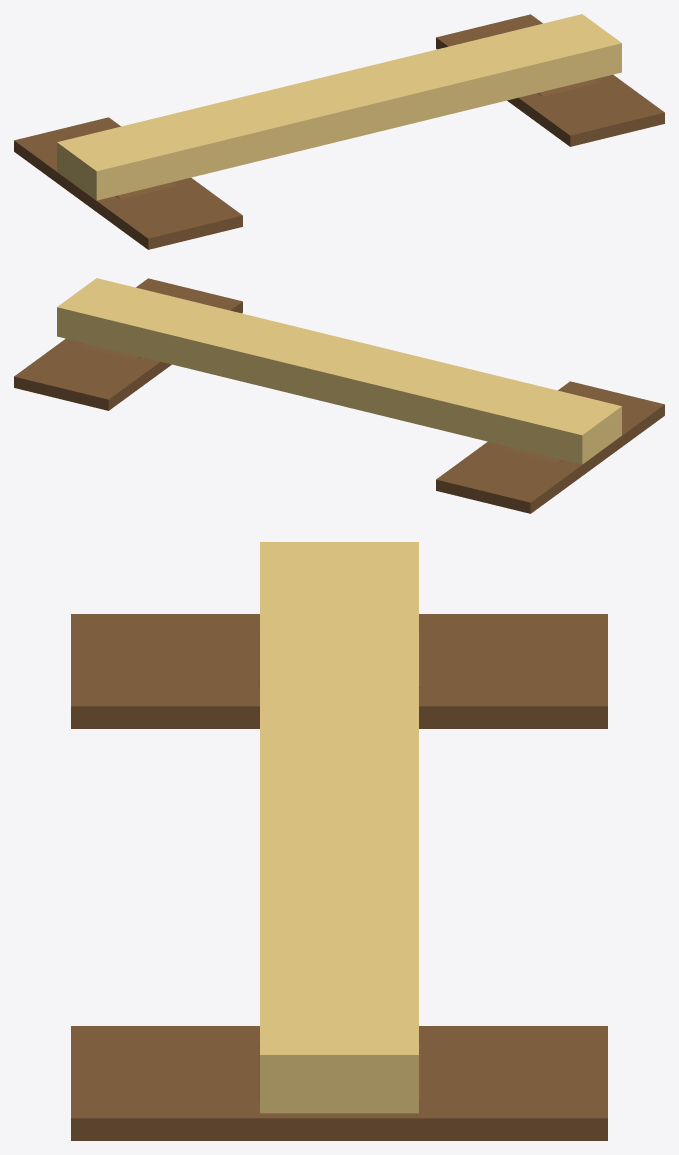
Rendered from WG_BunnyHop_Greybox.glb.
3 renders of one model, top to bottom at view 1: azimuth 30°, elevation 25°; view 2: azimuth 150°, elevation 25°; view 3: azimuth 270°, elevation 25°, orthographic. The views are drawn at different scales.
Parts seen in each view (by area): view 1: GEO_BunnyHopHurdle_LOD0; view 2: GEO_BunnyHopHurdle_LOD0; view 3: GEO_BunnyHopHurdle_LOD0.
Boxes of the visible parts, x1=… form: GEO_BunnyHopHurdle_LOD0: x1=14, y1=14, x2=664, y2=249; GEO_BunnyHopHurdle_LOD0: x1=14, y1=278, x2=664, y2=513; GEO_BunnyHopHurdle_LOD0: x1=71, y1=542, x2=607, y2=1140.
Size of the model in its own units: 2.44 by 0.2 by 1.08.
